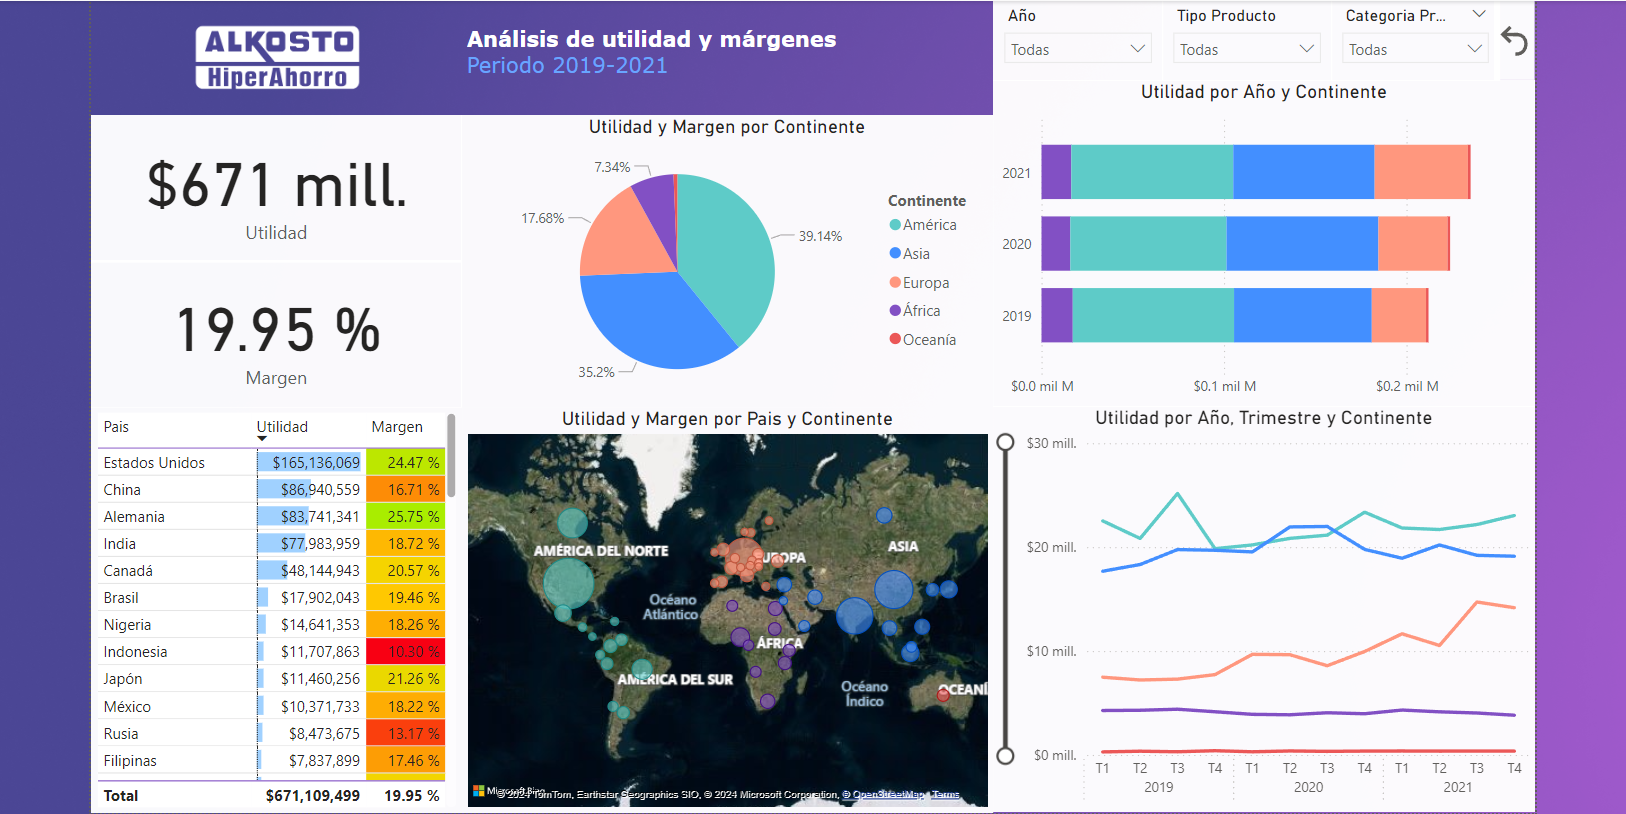

The dashboard page shown, as its layout file describes it:
{"tool":"powerbi","page":{"name":"AlkostoUtilidad","canvas":[1280,720],"ordinal":0},"visuals":[{"type":"tableEx","fields":{"Values":["Tabla Datos.Pais","Tabla Datos.Total Utilidad","Tabla Datos.Margen"]},"box":[0,359.9,328.8,359.9],"z":0},{"type":"card","fields":{"Values":["Tabla Datos.Total Utilidad"]},"box":[0,100.7,328.6,130.7],"z":1000},{"type":"card","fields":{"Values":["Tabla Datos.Margen"]},"box":[0,229.7,328.6,130.7],"z":2000},{"type":"barChart","fields":{"Category":["Tabla Datos.Año"],"Y":["Tabla Datos.Total Utilidad"],"Series":["Tabla Datos.Continente"]},"box":[799.4,69.8,480.6,289.7],"z":3000},{"type":"pieChart","fields":{"Category":["Tabla Datos.Continente"],"Y":["Tabla Datos.Total Utilidad"]},"box":[327.7,100.7,471.7,258.8],"z":4000},{"type":"map","fields":{"Size":["Tabla Datos.Total Utilidad"],"Category":["Tabla Datos.Pais"],"Series":["Tabla Datos.Continente"]},"box":[328.8,359.9,470.8,359.9],"z":5000},{"type":"lineChart","fields":{"Category":["Tabla Datos.Año","Tabla Datos.Trimestre"],"Series":["Tabla Datos.Continente"],"Y":["Tabla Datos.Total Utilidad"]},"box":[799.4,359.5,480.6,360.4],"z":6000},{"type":"slicer","fields":{"Values":["Tabla Datos.Año"]},"box":[799.4,0,151,70.7],"z":7000},{"type":"slicer","fields":{"Values":["Tabla Datos.Tipo Producto"]},"box":[949.6,0,151,70.7],"z":8000},{"type":"slicer","fields":{"Values":["Tabla Productos.Categoria Producto"]},"box":[1099.8,0,150.2,70.7],"z":9000},{"type":"textbox","box":[328.1,16.8,471.7,84.2],"z":10000},{"type":"image","box":[0,0,328.6,100.7],"z":11000},{"type":"actionButton","box":[1243.8,0,36.2,69.8],"z":12000}]}

Visuals, with their boxes in screenshot pixels (x1, y1, x2, y2):
tableEx - Tabla Datos.Pais x Tabla Datos.Total Utilidad: left=102, top=426, right=468, bottom=813
card - Tabla Datos.Total Utilidad: left=102, top=138, right=468, bottom=283
card - Tabla Datos.Margen: left=102, top=281, right=468, bottom=427
barChart - Tabla Datos.Año x Tabla Datos.Total Utilidad: left=992, top=103, right=1527, bottom=426
pieChart - Tabla Datos.Continente x Tabla Datos.Total Utilidad: left=467, top=138, right=992, bottom=426
map - Tabla Datos.Total Utilidad x Tabla Datos.Pais: left=468, top=426, right=992, bottom=813
lineChart - Tabla Datos.Año x Tabla Datos.Trimestre: left=992, top=426, right=1527, bottom=813
slicer - Tabla Datos.Año: left=992, top=25, right=1160, bottom=104
slicer - Tabla Datos.Tipo Producto: left=1159, top=25, right=1327, bottom=104
slicer - Tabla Productos.Categoria Producto: left=1326, top=25, right=1494, bottom=104
textbox: left=467, top=44, right=992, bottom=138
image: left=102, top=25, right=468, bottom=138
actionButton: left=1487, top=25, right=1527, bottom=103
